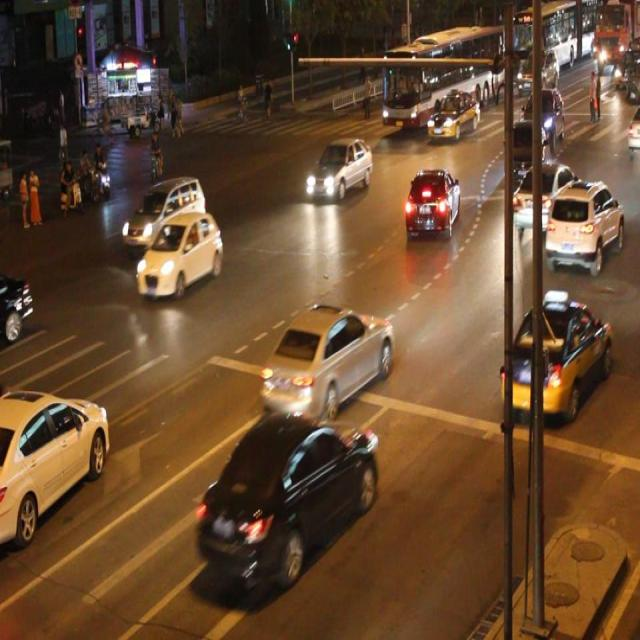car: (193, 409, 375, 585), (1, 389, 110, 540), (260, 302, 396, 415), (499, 295, 610, 414), (135, 213, 222, 297), (545, 179, 623, 271), (122, 178, 206, 249), (512, 160, 579, 229), (304, 136, 372, 198), (403, 167, 458, 241), (504, 120, 546, 191), (426, 94, 479, 138), (1, 272, 33, 344)
van: (383, 25, 502, 124)
